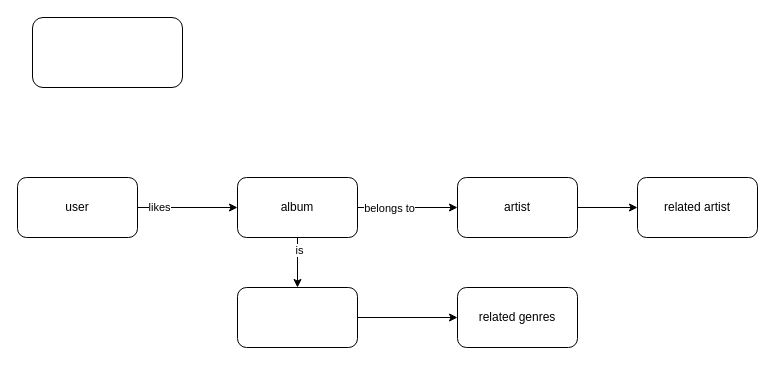
Some shapes in this 775 by 365 pixel diagram are drawn without their labels. Here are the shapes that lost their labels. From the top down, the box of each, then its label:
(32, 16, 182, 88): recommendation.py
(236, 286, 358, 348): genres
